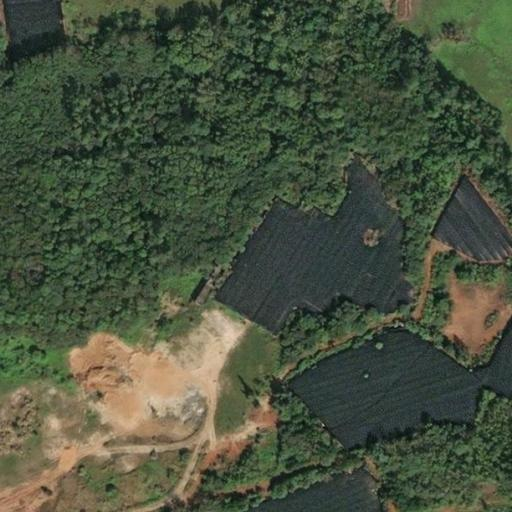building: (184, 288, 200, 308), (396, 10, 407, 15)
